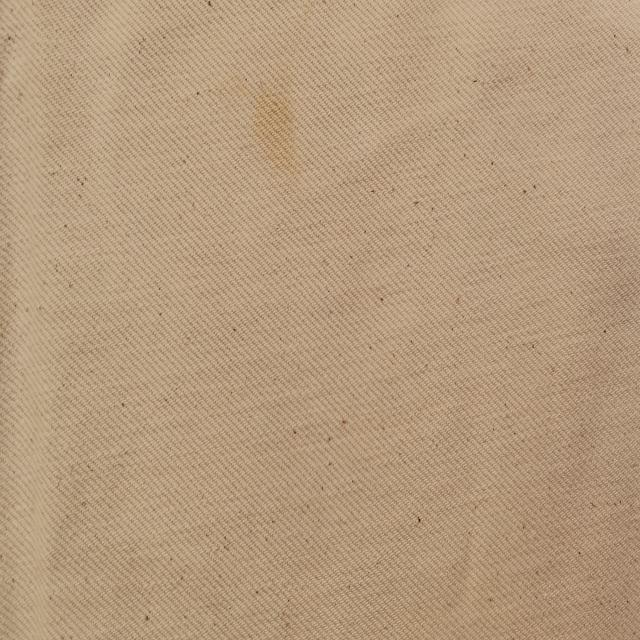taaaches: (243, 73, 305, 192)
